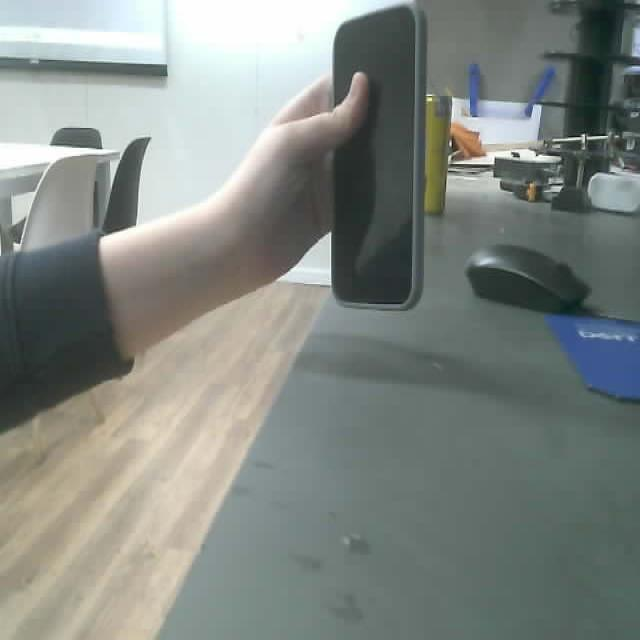phone: (331, 4, 427, 309)
